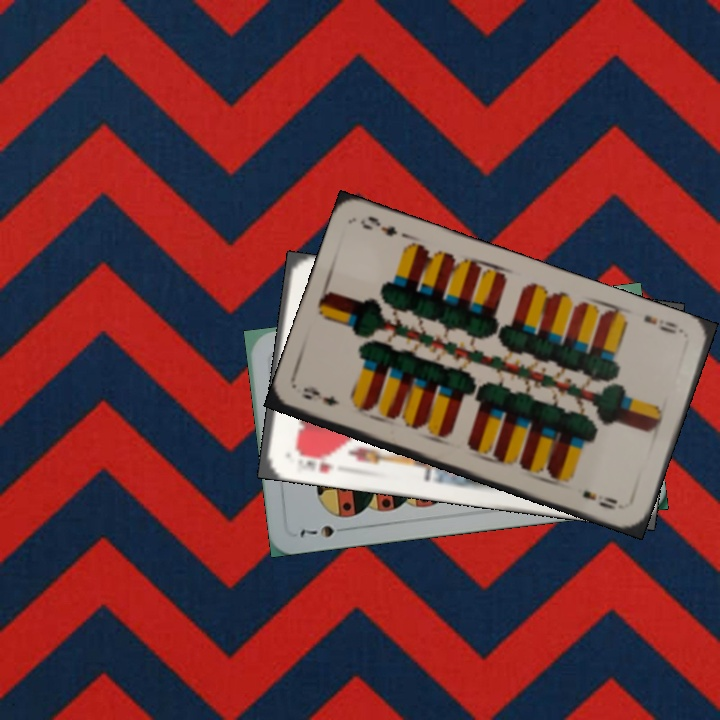E9: (639, 310, 687, 339), (298, 383, 343, 409)
HK: (290, 446, 336, 477)
S7: (296, 521, 337, 540)
